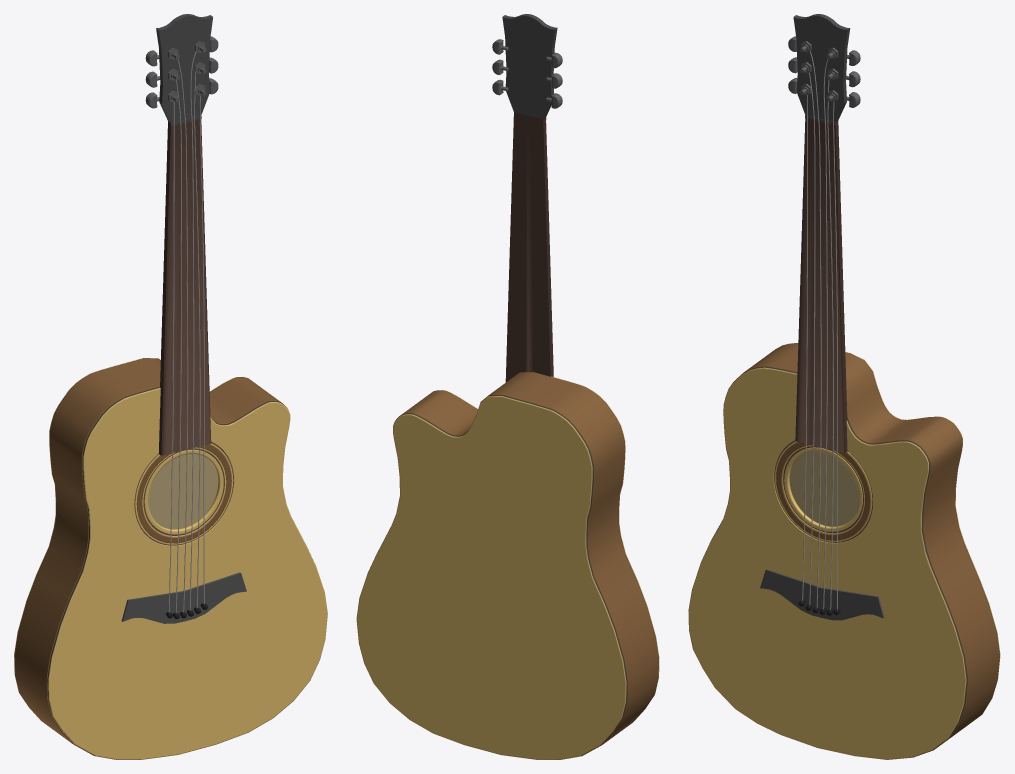
The model's file is guitarra2.fbx.
3 views of the same model, side by side, from view 1: azimuth 30°, elevation 25°; view 2: azimuth 150°, elevation 25°; view 3: azimuth 330°, elevation 25° (orthographic). The views are drawn at different scales.
Visible parts, largest first — view 1: guitar_base.001, guitar_base.002, guitar_handle, guitar_strings, guitar_base, guitar_cable fixing base, guitar_adjust strings, guitar_base.004, guitar_base.003, guitar_freeze strings; view 2: guitar_base.001, guitar_base.002, guitar_handle, guitar_adjust strings, guitar_base.004; view 3: guitar_base.001, guitar_handle, guitar_base.002, guitar_strings, guitar_base, guitar_cable fixing base, guitar_adjust strings, guitar_base.004, guitar_base.003, guitar_freeze strings.
Part boxes in pixels (<box>): guitar_base.001: <box>14,358,327,759</box>; guitar_base.002: <box>14,358,315,759</box>; guitar_handle: <box>156,14,212,455</box>; guitar_strings: <box>168,51,204,612</box>; guitar_base: <box>148,453,217,529</box>; guitar_cable fixing base: <box>121,572,246,623</box>; guitar_adjust strings: <box>145,36,218,108</box>; guitar_base.004: <box>14,374,279,742</box>; guitar_base.003: <box>134,442,233,545</box>; guitar_freeze strings: <box>168,41,206,102</box>; guitar_base.001: <box>356,376,659,759</box>; guitar_base.002: <box>370,372,658,759</box>; guitar_handle: <box>502,14,557,382</box>; guitar_adjust strings: <box>492,39,562,108</box>; guitar_base.004: <box>403,387,658,744</box>; guitar_base.001: <box>688,352,1000,759</box>; guitar_handle: <box>793,14,850,453</box>; guitar_base.002: <box>703,343,999,757</box>; guitar_strings: <box>802,51,837,609</box>; guitar_base: <box>789,451,858,526</box>; guitar_cable fixing base: <box>760,569,884,620</box>; guitar_adjust strings: <box>788,36,860,107</box>; guitar_base.004: <box>749,360,999,737</box>; guitar_base.003: <box>774,440,872,542</box>; guitar_freeze strings: <box>800,41,838,101</box>.
Size of the model in its own units: 37.94 by 9.86 by 95.5.
